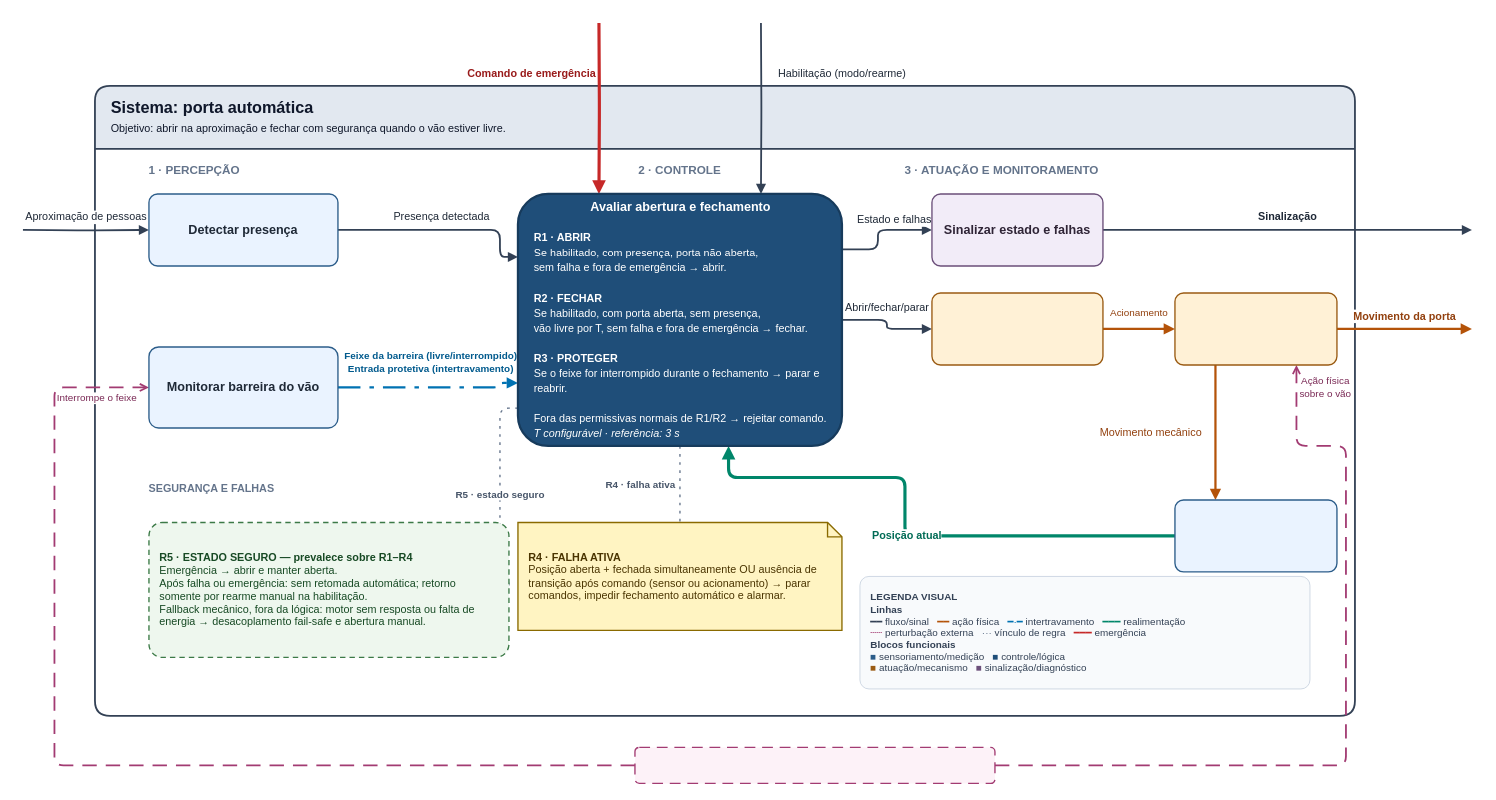
The diagram is 1496 pixels wide and 800 high, and some of its shapes have lost their labels. Each missing label, with the centre of its shape:
Comandar motor: the point at 1017,328
Medir posição da porta: the point at 1255,535
Mover porta (motor/mecanismo): the point at 1255,328
Perturbação: obstáculo / fluxo de pessoas (ambiente): the point at 814,765
